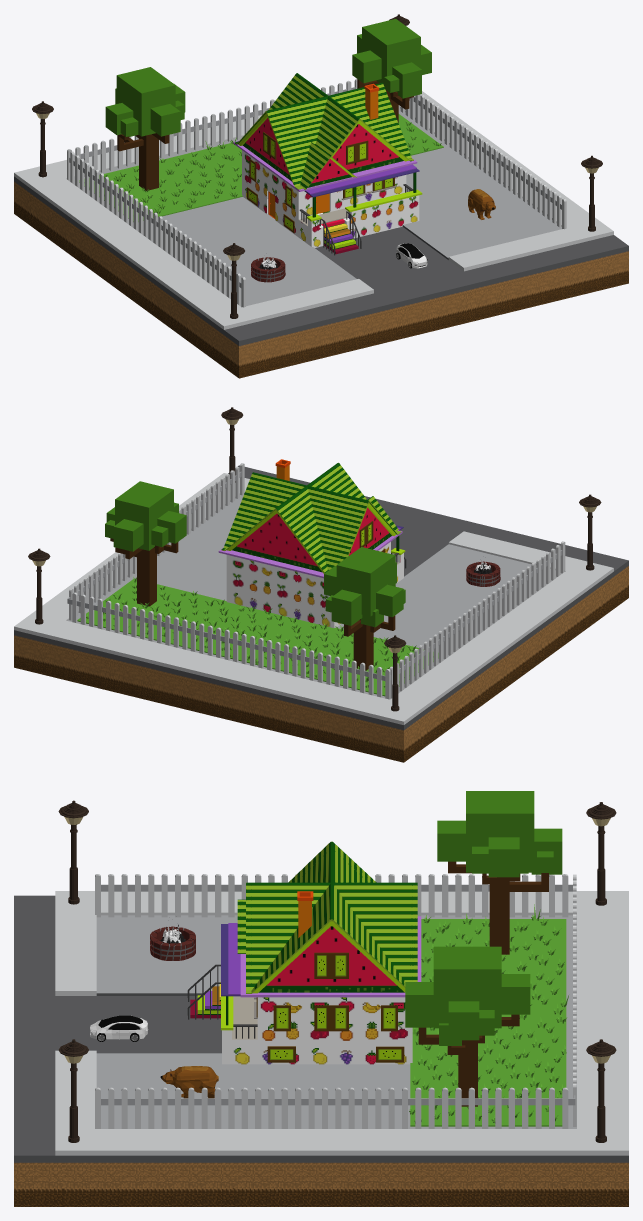
The picture shows the model from 3 angles, top to bottom: view 1: azimuth 30°, elevation 25°; view 2: azimuth 150°, elevation 25°; view 3: azimuth 270°, elevation 25°; orthographic projection. The views are drawn at different scales.
Parts seen in each view (by area): view 1: Cube.004, Cube.1063, OBJRANDOM_CAMPFIRE, ANIMAL_OSO, VEHICLES_TESLA; view 2: Cube.004, Cube.1063, OBJRANDOM_CAMPFIRE; view 3: Cube.004, Cube.1063, OBJRANDOM_CAMPFIRE, VEHICLES_TESLA, ANIMAL_OSO.
Boxes of the visible parts, bbox=[...] form: Cube.004: bbox=[14, 14, 628, 378]; Cube.1063: bbox=[233, 73, 422, 255]; OBJRANDOM_CAMPFIRE: bbox=[251, 255, 285, 282]; ANIMAL_OSO: bbox=[468, 189, 495, 219]; VEHICLES_TESLA: bbox=[396, 243, 427, 268]; Cube.004: bbox=[14, 407, 628, 762]; Cube.1063: bbox=[218, 459, 406, 627]; OBJRANDOM_CAMPFIRE: bbox=[466, 561, 500, 586]; Cube.004: bbox=[14, 791, 628, 1206]; Cube.1063: bbox=[187, 841, 421, 1064]; OBJRANDOM_CAMPFIRE: bbox=[150, 924, 195, 960]; VEHICLES_TESLA: bbox=[90, 1015, 148, 1041]; ANIMAL_OSO: bbox=[160, 1066, 218, 1098].
Bounding box in the file's own units: 4000 × 1579 × 4000.
Materials: 34 (5 with a texture image).
